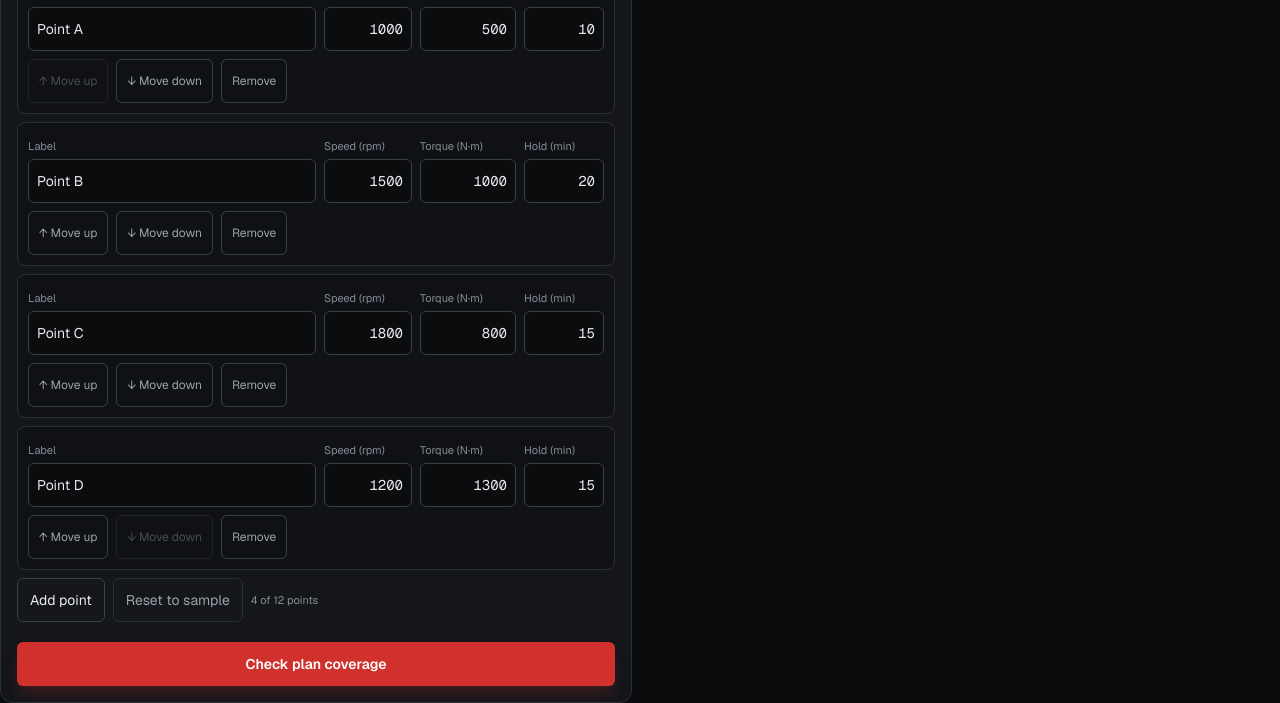
Test case: Engine Test-Plan Workbench: results › shows the server's verdict even when it contradicts the numbers beside it
(page scrolled)
Click the button "Check plan coverage" at (316, 664), box [17,642,615,686]
(page scrolled)
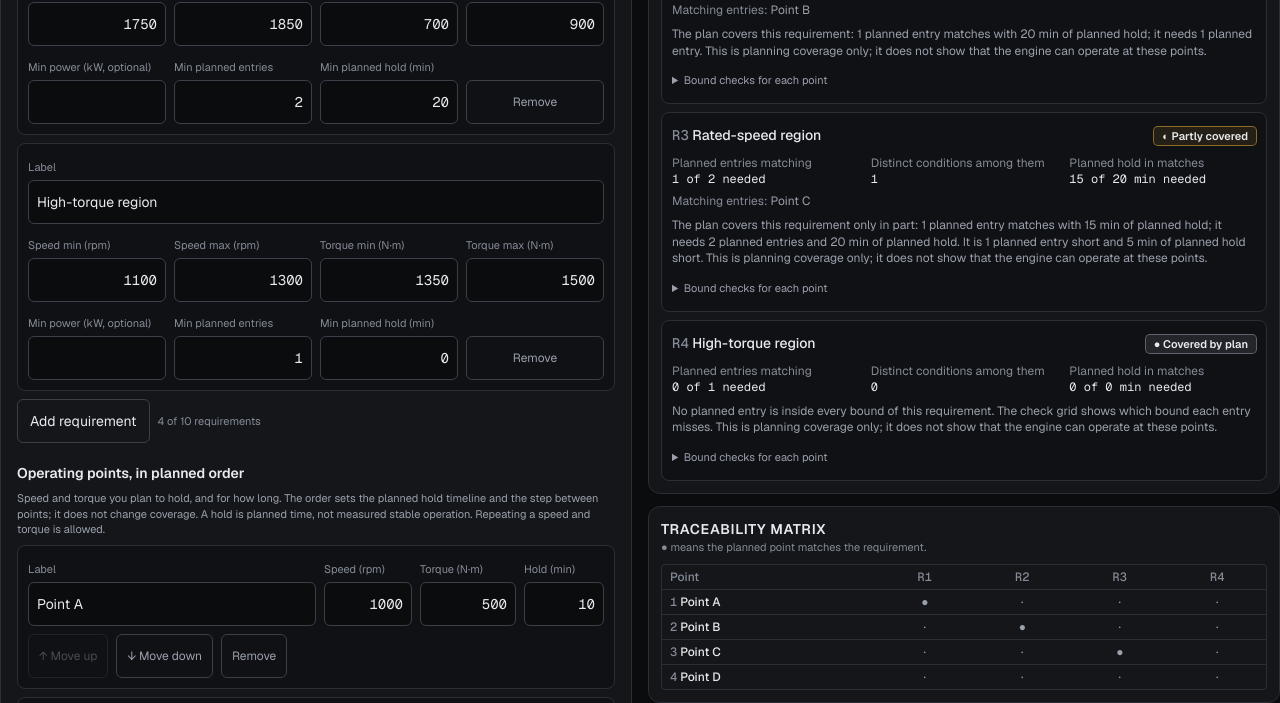
Result: the element showing "● Covered by plan" is shown at [1146,335,1256,353]
